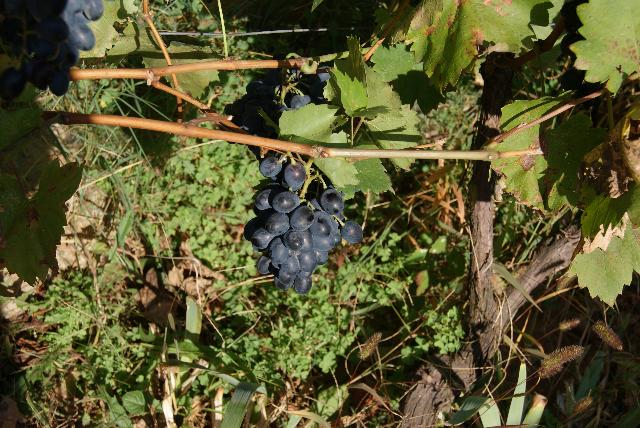grapes: (244, 154, 362, 295), (225, 69, 329, 139)
